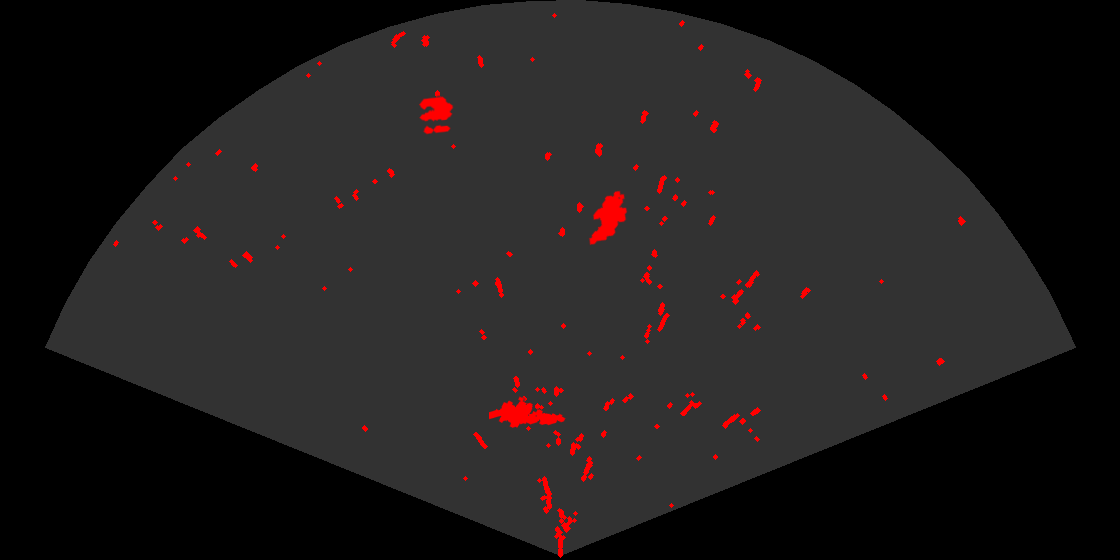AUV: (587, 189, 629, 247)
ball: (417, 95, 455, 136)
frogman: (489, 395, 567, 429)
